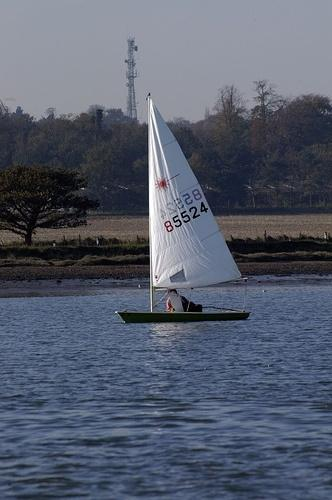Ship: (116, 92, 251, 324)
